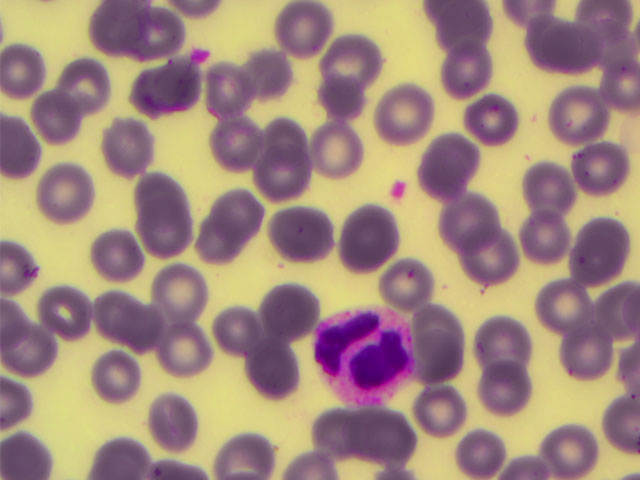Platelets: (390, 179, 406, 200), (190, 48, 209, 65)
RBC: (36, 163, 96, 223), (542, 17, 602, 77), (459, 222, 519, 282), (438, 192, 498, 252), (375, 86, 435, 146), (149, 263, 209, 323), (271, 204, 331, 264), (251, 140, 311, 200), (135, 195, 195, 255), (88, 1, 148, 60), (534, 279, 595, 332), (245, 343, 300, 401), (103, 116, 153, 178), (208, 113, 261, 171), (258, 285, 318, 335), (478, 359, 531, 415), (474, 316, 527, 372), (557, 325, 610, 381), (543, 423, 596, 479), (555, 85, 608, 141), (572, 137, 625, 193), (519, 162, 572, 218), (514, 208, 567, 264), (465, 88, 518, 144), (364, 407, 417, 463), (340, 210, 393, 266), (134, 173, 187, 229), (59, 59, 112, 115), (568, 231, 621, 287), (527, 12, 580, 68), (120, 299, 173, 355), (155, 319, 208, 375), (439, 1, 492, 57), (326, 33, 379, 89), (142, 60, 195, 116), (199, 60, 252, 116), (307, 123, 360, 179), (253, 118, 306, 174), (275, 1, 328, 56), (440, 39, 491, 96), (312, 406, 369, 456), (1, 108, 40, 178), (454, 430, 508, 480), (88, 227, 140, 278), (587, 28, 640, 77), (436, 128, 481, 184), (416, 147, 462, 201), (601, 53, 640, 115), (602, 389, 640, 452), (94, 292, 143, 340), (1, 45, 41, 103), (1, 433, 50, 480), (417, 385, 466, 432), (34, 93, 83, 140), (241, 49, 290, 96), (319, 75, 368, 122), (90, 353, 139, 400), (148, 398, 197, 445), (213, 190, 262, 237), (198, 216, 247, 263), (98, 430, 147, 477), (41, 287, 90, 334), (136, 3, 185, 50), (222, 433, 271, 480), (216, 306, 265, 353), (581, 216, 627, 266), (6, 325, 54, 372), (383, 263, 435, 306), (1, 243, 38, 300), (601, 280, 640, 332), (417, 303, 455, 346), (1, 301, 34, 350), (1, 377, 32, 429), (418, 1, 482, 26), (150, 453, 209, 480), (81, 456, 145, 480), (501, 1, 559, 27), (286, 452, 333, 480), (584, 1, 624, 33), (617, 338, 639, 393)
WBC: (314, 305, 419, 408)
